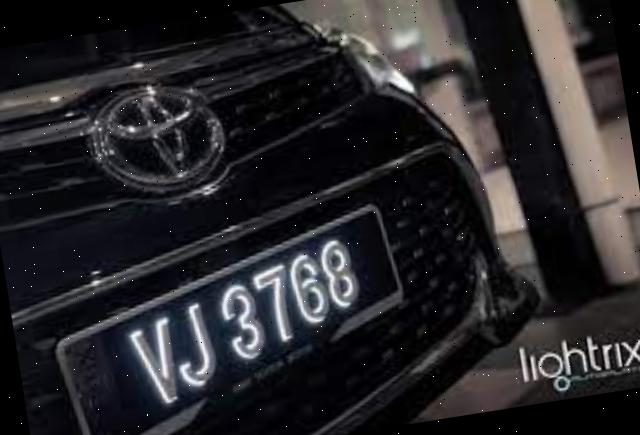License_Plate: (44, 193, 418, 435)
